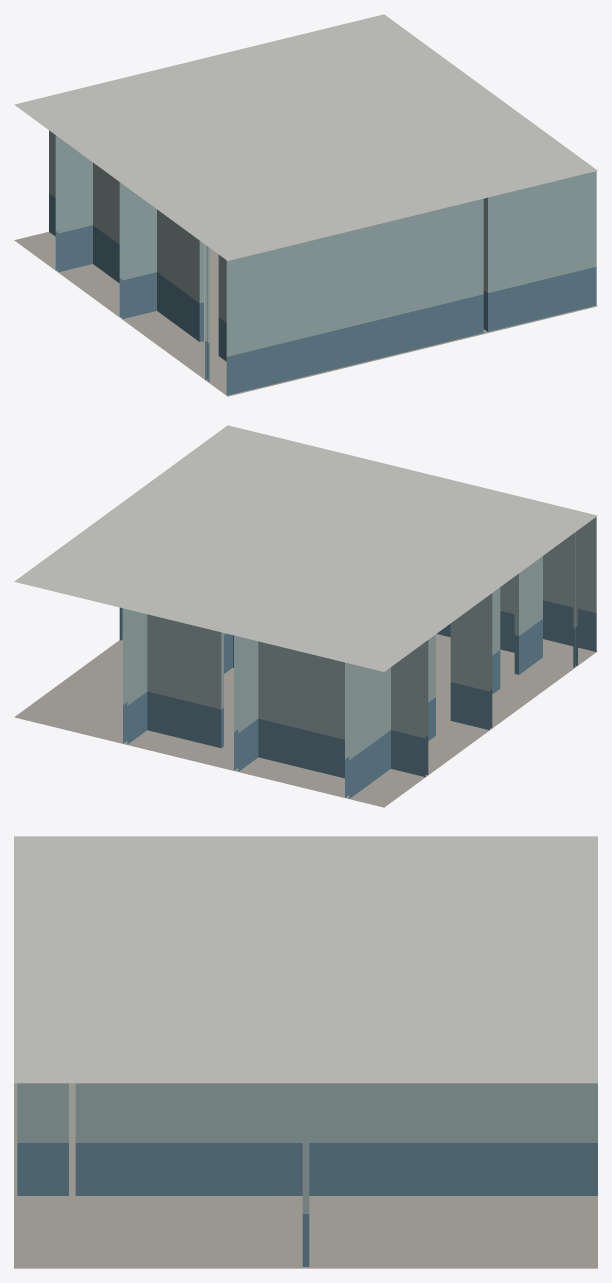
File: chunk_1_2.glb
The picture shows the model from 3 angles, top to bottom: view 1: azimuth 30°, elevation 25°; view 2: azimuth 150°, elevation 25°; view 3: azimuth 270°, elevation 25°; orthographic projection. The views are drawn at different scales.
Parts seen in each view (by area): view 1: chunk_1_2; view 2: chunk_1_2; view 3: chunk_1_2.
Part boxes in pixels (box(x1,y1,x2,y2)): chunk_1_2: box(14, 14, 597, 396); chunk_1_2: box(14, 425, 597, 807); chunk_1_2: box(14, 836, 597, 1268).
Size of the model in its own units: 12 by 4.2 by 12.
